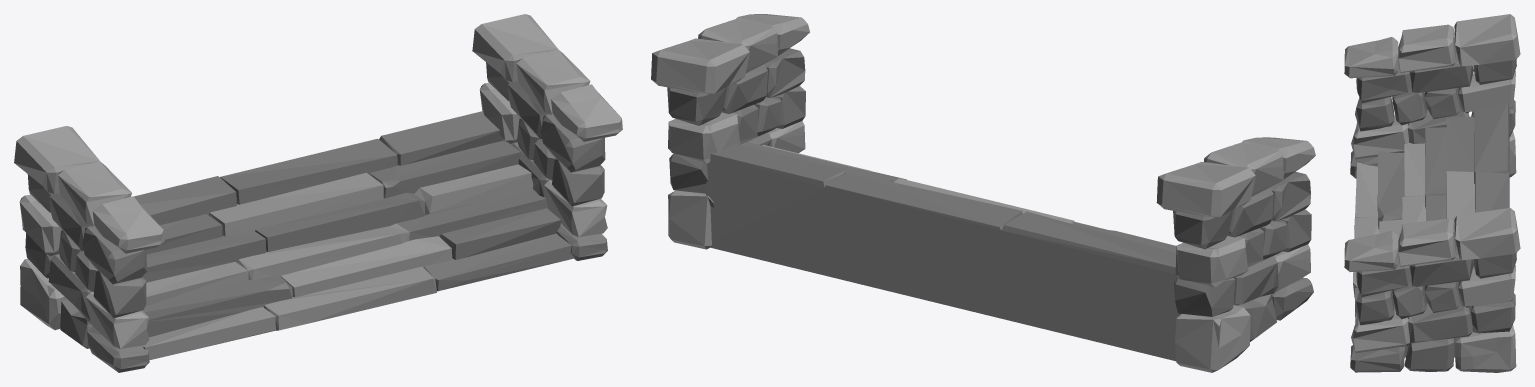
Rendered from _STAIRS_02_1.fbx.
3 renders of one model, left to right at view 1: azimuth 30°, elevation 25°; view 2: azimuth 150°, elevation 25°; view 3: azimuth 270°, elevation 25°, orthographic. The views are drawn at different scales.
Parts seen in each view (by area): view 1: STAIRS_02_1; view 2: STAIRS_02_1; view 3: STAIRS_02_1.
Boxes of the visible parts, x1,y1,x2,y2 form: STAIRS_02_1: (14, 14, 622, 372); STAIRS_02_1: (651, 14, 1315, 372); STAIRS_02_1: (1344, 14, 1520, 372).
Bounding box in the file's own units: 341 × 110 × 116.
